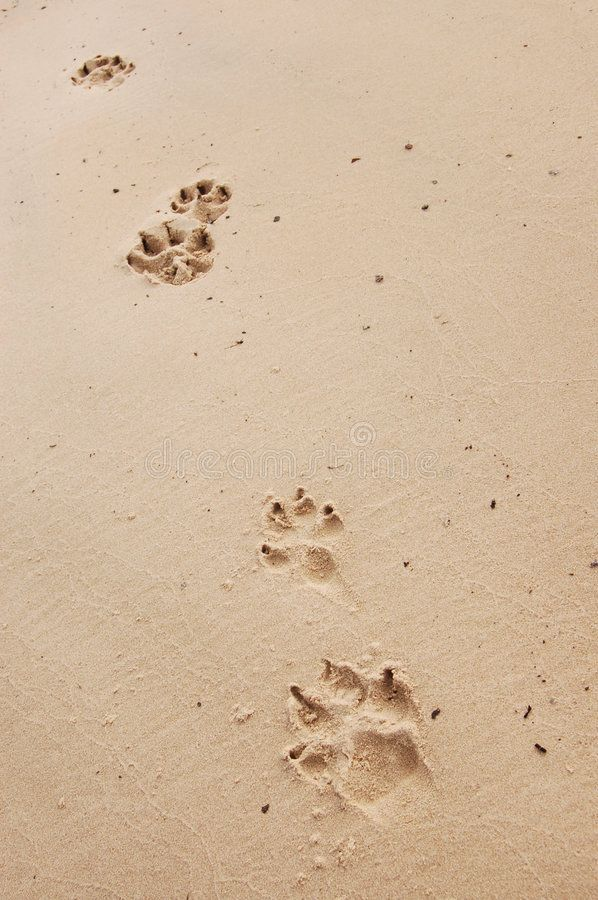chien: (279, 660, 435, 815), (123, 182, 232, 284), (254, 503, 357, 584)
